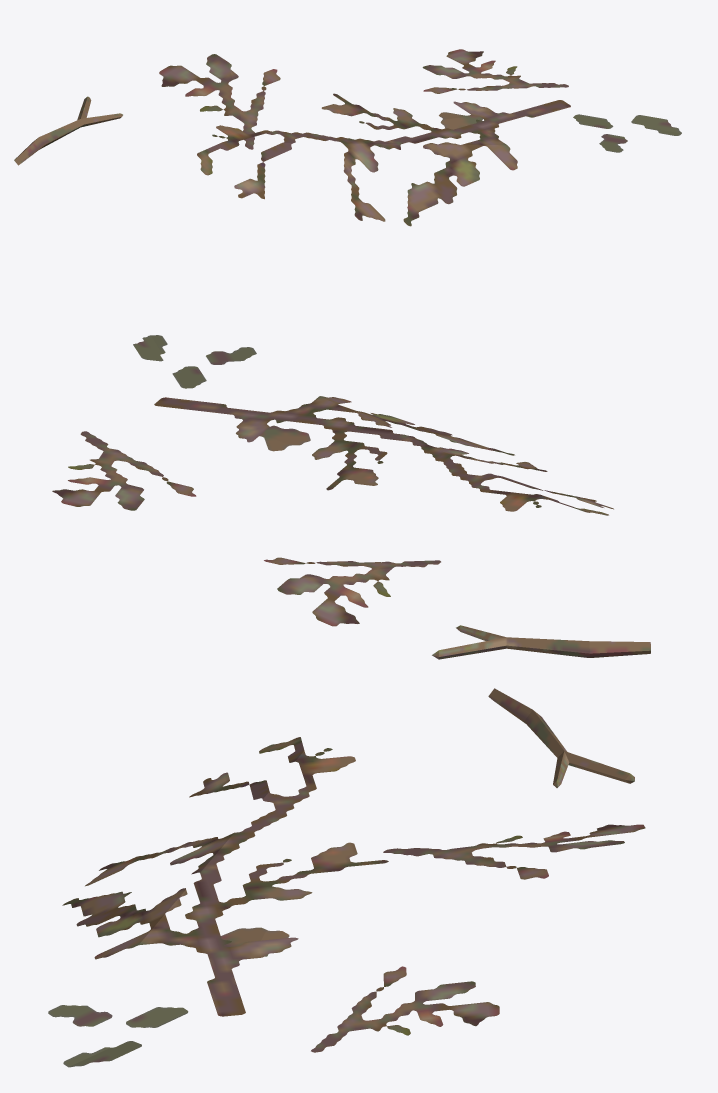
Rendered from gi-Flower_Twigs_02.glb.
3 renders of one model, top to bottom at view 1: azimuth 30°, elevation 25°; view 2: azimuth 150°, elevation 25°; view 3: azimuth 270°, elevation 25°, orthographic. The views are drawn at different scales.
Visible parts, largest first — view 1: gi-Flower_Twigs_02; view 2: gi-Flower_Twigs_02; view 3: gi-Flower_Twigs_02.
Part boxes in pixels (bbox=[...]): gi-Flower_Twigs_02: bbox=[14, 49, 681, 226]; gi-Flower_Twigs_02: bbox=[52, 335, 650, 659]; gi-Flower_Twigs_02: bbox=[48, 688, 645, 1067].
Bounding box in the file's own units: 1.73 × 0.2527 × 1.29.
Materials: 1 (1 with a texture image).
